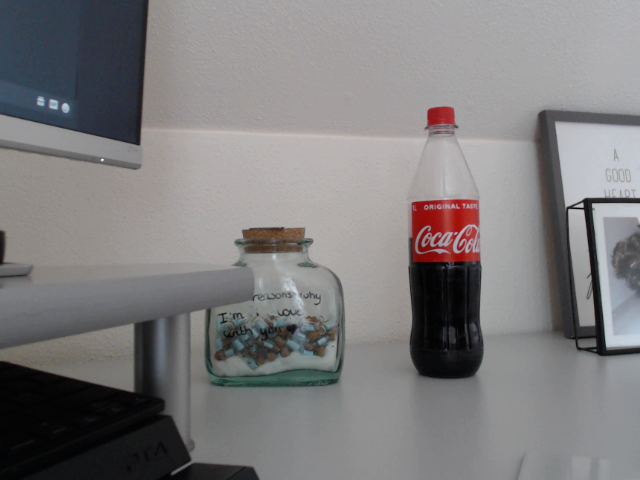bottle: (406, 106, 485, 380)
